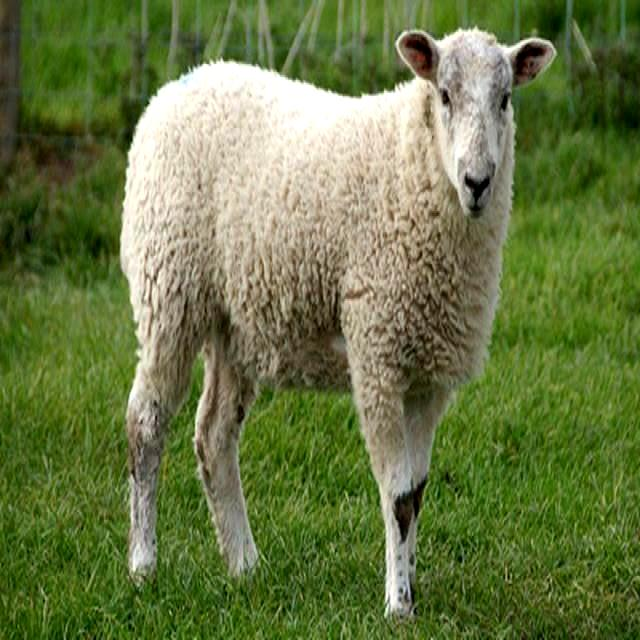sheep: (118, 26, 559, 628)
